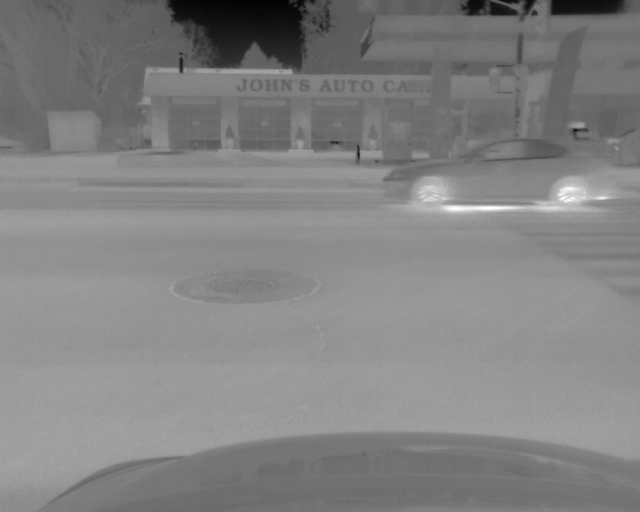car: (382, 136, 615, 209)
